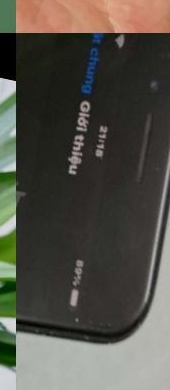scratch: (65, 308, 114, 337), (147, 33, 170, 59)
